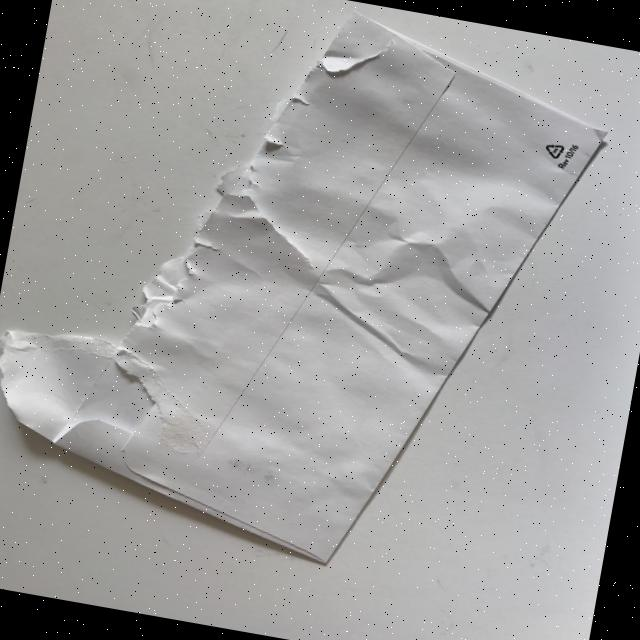paper: (0, 0, 623, 600)
